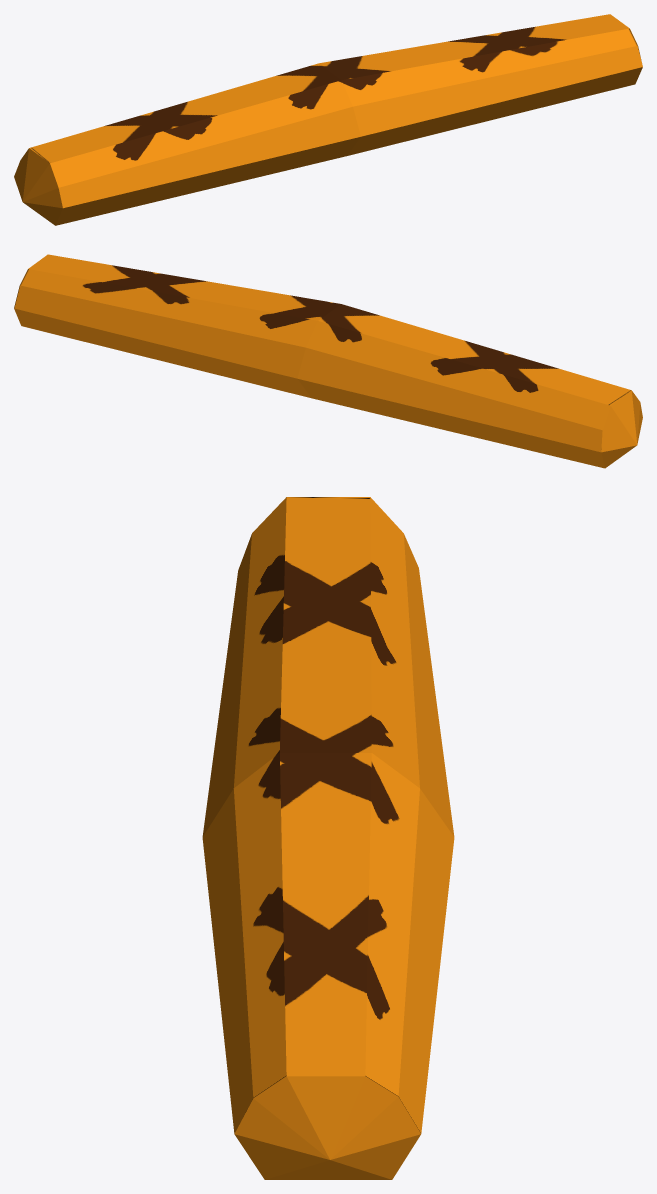
File: yoot-round-6.glb
3 views of the same model, one above another, from view 1: azimuth 30°, elevation 25°; view 2: azimuth 150°, elevation 25°; view 3: azimuth 270°, elevation 25° (orthographic). The views are drawn at different scales.
Visible parts, largest first — view 1: Cylinder.009; view 2: Cylinder.009; view 3: Cylinder.009.
Part boxes in pixels (x1=…): Cylinder.009: x1=14, y1=14, x2=642, y2=225; Cylinder.009: x1=14, y1=254, x2=642, y2=468; Cylinder.009: x1=202, y1=497, x2=454, y2=1179.
Bounding box in the file's own units: 10.36 × 1.17 × 1.86.
Materials: 1 (1 with a texture image).
